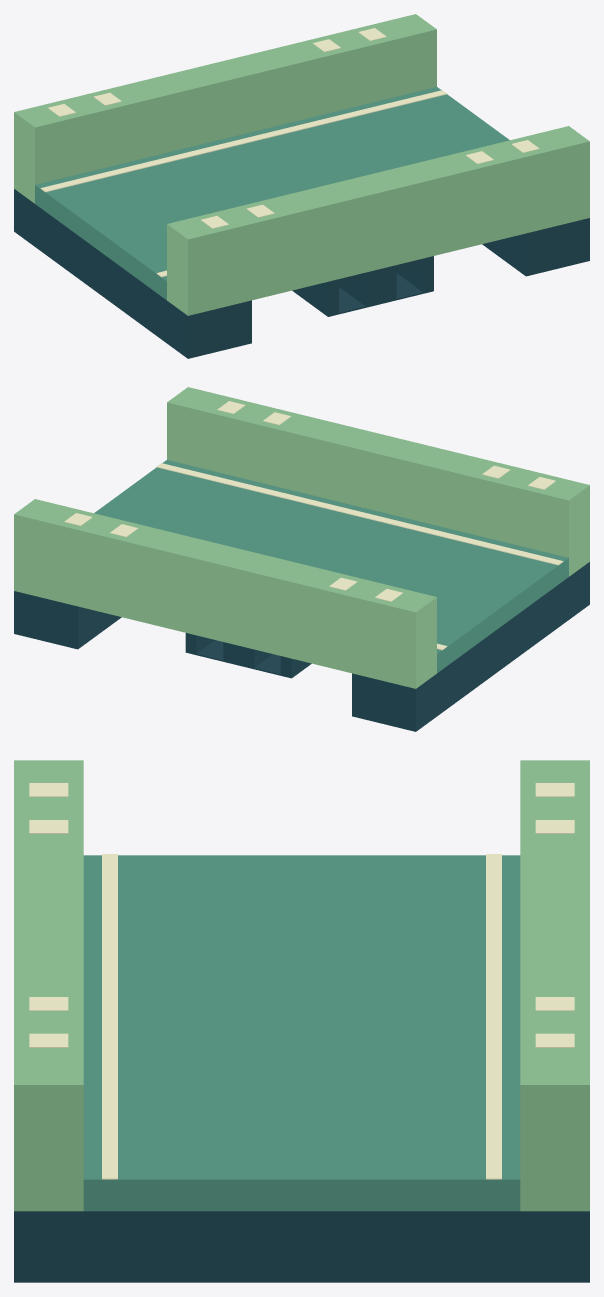
The model's file is marble-chute.glb.
3 views of the same model, one above another, from view 1: azimuth 30°, elevation 25°; view 2: azimuth 150°, elevation 25°; view 3: azimuth 270°, elevation 25° (orthographic). The views are drawn at different scales.
Visible parts, largest first — view 1: Exitrail.001, Exitrail, Exit, Frame.001, Frame, Guide stripe, Frame.005, Frame.003, Frame.002, Frame.006, Frame.004; view 2: Exitrail, Exitrail.001, Exit, Frame.001, Frame, Guide stripe.001, Frame.002, Frame.005; view 3: Exit, Frame, Exitrail, Exitrail.001, Guide stripe, Guide stripe.001.
Boxes of the visible parts, left/top/right/bottom form: Exitrail.001: left=167, top=126, right=589, bottom=315; Exitrail: left=14, top=14, right=436, bottom=203; Exit: left=35, top=87, right=509, bottom=300; Frame.001: left=14, top=189, right=251, bottom=358; Frame: left=482, top=218, right=589, bottom=276; Guide stripe: left=40, top=90, right=447, bottom=192; Frame.005: left=340, top=273, right=396, bottom=306; Frame.003: left=320, top=256, right=433, bottom=290; Frame.002: left=292, top=273, right=433, bottom=316; Frame.006: left=293, top=284, right=338, bottom=315; Frame.004: left=397, top=264, right=433, bottom=292; Exitrail: left=14, top=499, right=436, bottom=688; Exitrail.001: left=167, top=387, right=589, bottom=576; Exit: left=94, top=460, right=568, bottom=673; Frame.001: left=352, top=562, right=589, bottom=731; Frame: left=14, top=591, right=121, bottom=649; Guide stripe.001: left=156, top=463, right=563, bottom=565; Frame.002: left=185, top=640, right=311, bottom=678; Frame.005: left=223, top=642, right=272, bottom=667; Exit: left=83, top=855, right=520, bottom=1211; Frame: left=14, top=1211, right=589, bottom=1282; Exitrail: left=520, top=760, right=589, bottom=1211; Exitrail.001: left=14, top=760, right=83, bottom=1211; Guide stripe: left=486, top=854, right=501, bottom=1179; Guide stripe.001: left=102, top=854, right=117, bottom=1179.
Size of the model in its own units: 44 by 12.56 by 33.
